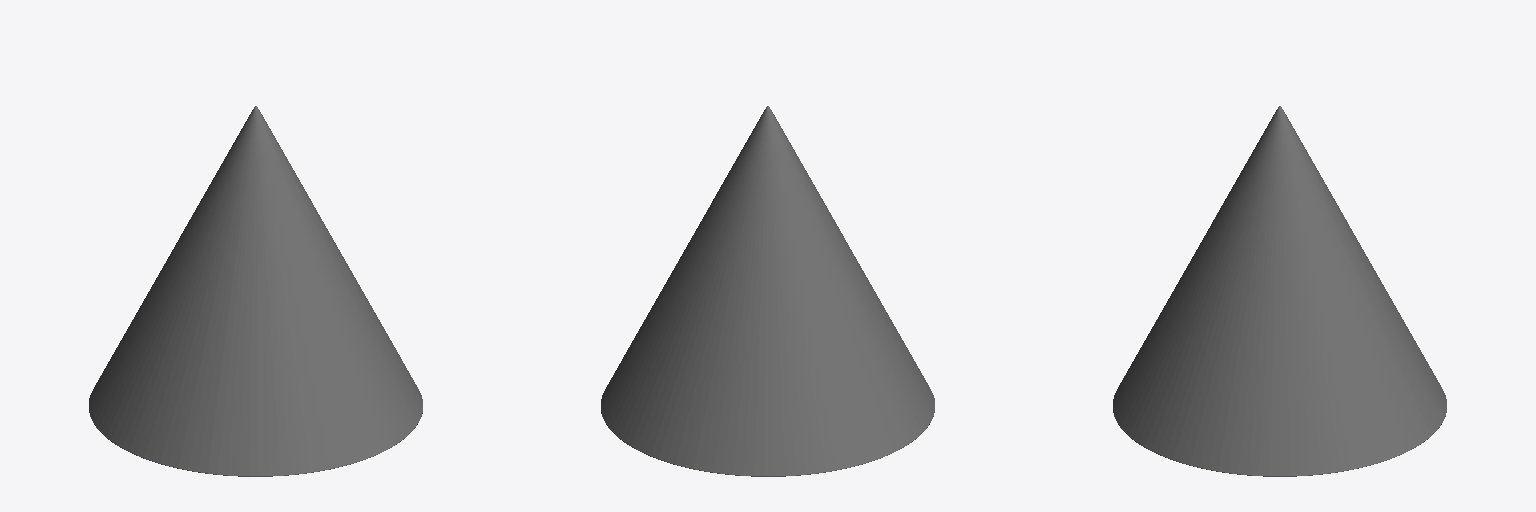
File: cone_hollow.obj
3 renders of one model, left to right at view 1: azimuth 30°, elevation 25°; view 2: azimuth 150°, elevation 25°; view 3: azimuth 270°, elevation 25°, orthographic.
Visible parts, largest first — view 1: cone_hollow; view 2: cone_hollow; view 3: cone_hollow.
Part boxes in pixels (left/top/right/bottom): cone_hollow: left=89, top=106, right=422, bottom=476; cone_hollow: left=601, top=106, right=934, bottom=476; cone_hollow: left=1113, top=106, right=1446, bottom=476.
Size of the model in its own units: 19.96 by 19.77 by 19.96.